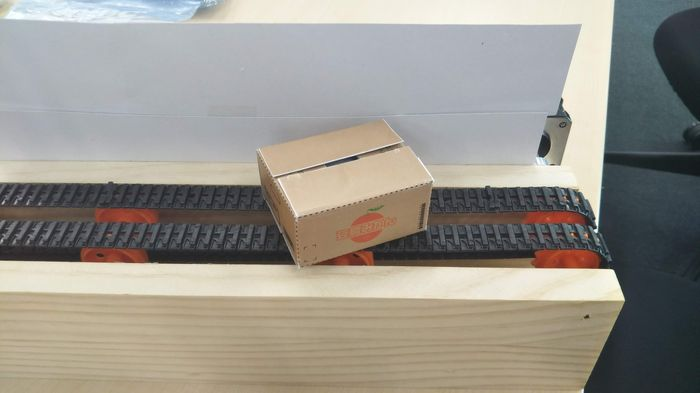box1: (252, 116, 432, 265)
